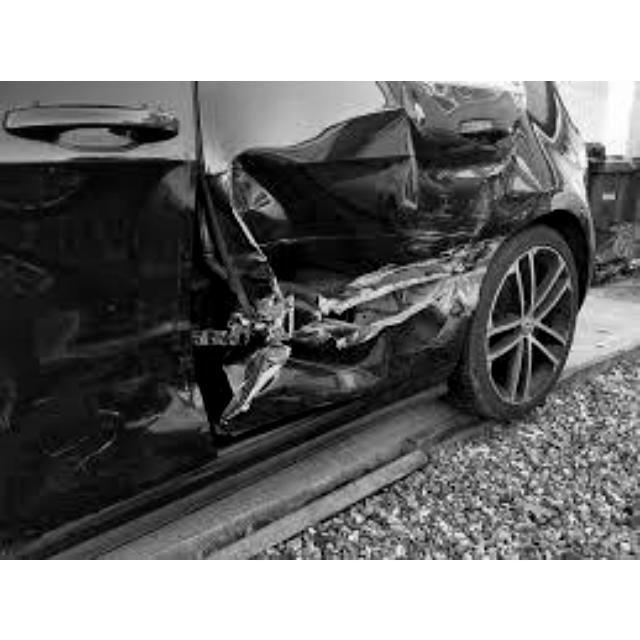doorouter-dent: (196, 81, 494, 414), (0, 83, 192, 485)
